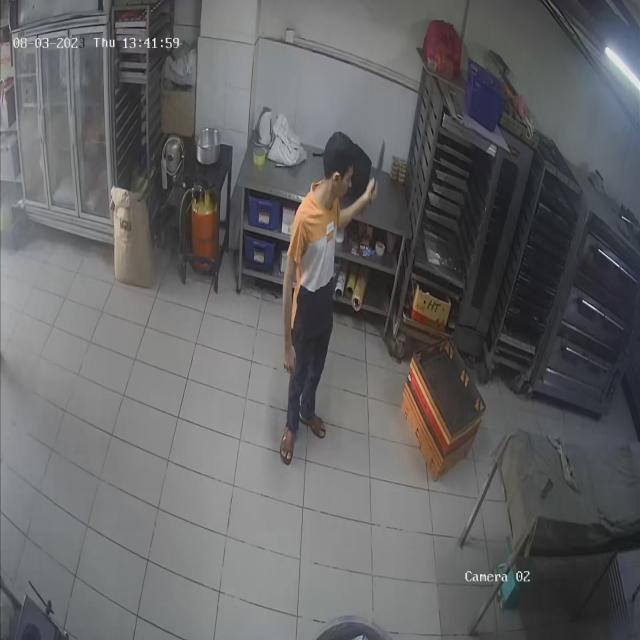Knife: (372, 130, 395, 192)
